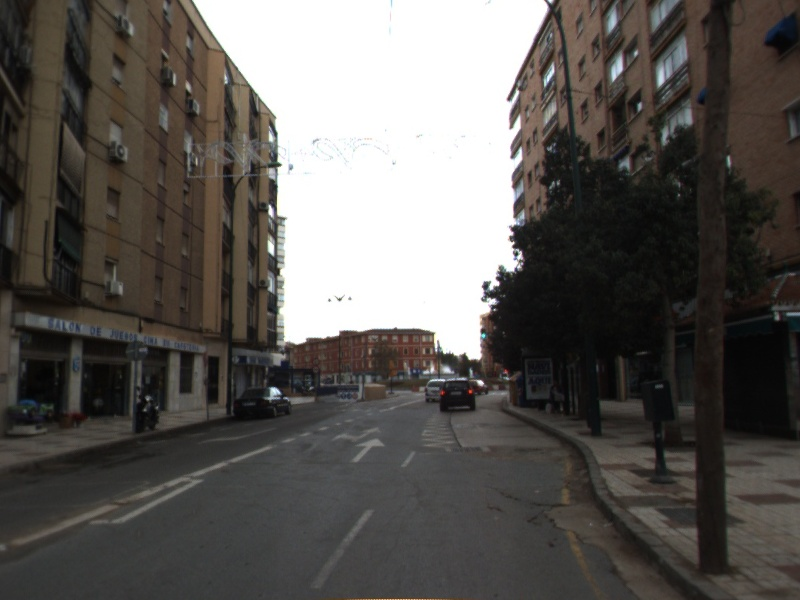STRAIGHT: (347, 436, 387, 465)
STRAIGHT_LEFT: (328, 425, 384, 444)
